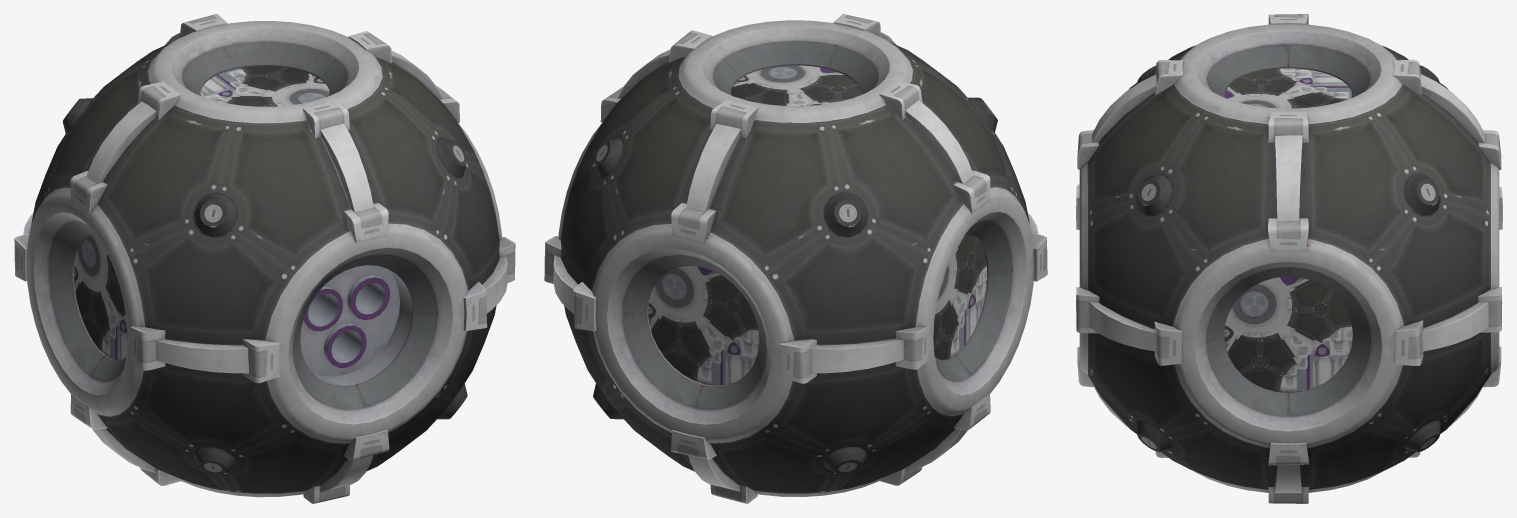
Rendered from io_bomb.glb.
The picture shows the model from 3 angles, left to right: view 1: azimuth 30°, elevation 25°; view 2: azimuth 150°, elevation 25°; view 3: azimuth 270°, elevation 25°; orthographic projection.
Parts seen in each view (by area): view 1: SM_Tinfoil_Device_01_LOD0.mo; view 2: SM_Tinfoil_Device_01_LOD0.mo; view 3: SM_Tinfoil_Device_01_LOD0.mo.
Part boxes in pixels (left/top/right/bottom): SM_Tinfoil_Device_01_LOD0.mo: left=14, top=14, right=515, bottom=503; SM_Tinfoil_Device_01_LOD0.mo: left=544, top=14, right=1047, bottom=503; SM_Tinfoil_Device_01_LOD0.mo: left=1076, top=14, right=1502, bottom=503.
Bounding box in the file's own units: 2.02 × 2.01 × 2.02.
1 material, 1 textured.
